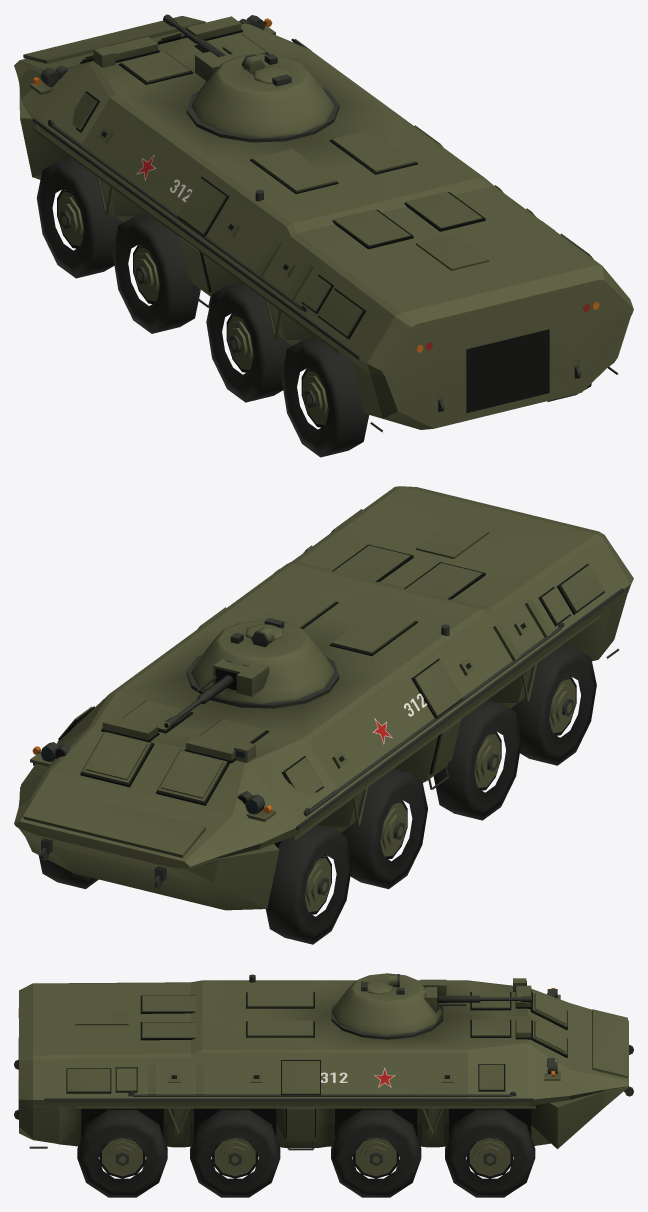
Rendered from btr70_lod1.glb.
The picture shows the model from 3 angles, top to bottom: view 1: azimuth 30°, elevation 25°; view 2: azimuth 150°, elevation 25°; view 3: azimuth 270°, elevation 25°; orthographic projection. The views are drawn at different scales.
Parts seen in each view (by area): view 1: Hull_BTR70_Paint, LeftTrack_Motion_BTR70_Rubber, TurretYaw_BTR70_Paint, Hull_BTR70_Cavity, Hull_BTR70_DarkSteel, LeftTrack_Motion_BTR70_Paint, LeftTrack_Motion_BTR70_DarkSteel; view 2: Hull_BTR70_Paint, LeftTrack_Motion_BTR70_Rubber, TurretYaw_BTR70_Paint, Hull_BTR70_DarkSteel, LeftTrack_Motion_BTR70_Paint, Hull_BTR70_Cavity, GunPitch_BTR70_Paint, RightTrack_Motion_BTR70_Rubber, BarrelRecoil_BTR70_DarkSteel, LeftTrack_Motion_BTR70_DarkSteel; view 3: Hull_BTR70_Paint, RightTrack_Motion_BTR70_Rubber, Hull_BTR70_Cavity, TurretYaw_BTR70_Paint, RightTrack_Motion_BTR70_Paint, Hull_BTR70_DarkSteel, RightTrack_Motion_BTR70_Cavity, RightTrack_Motion_BTR70_DarkSteel, BarrelRecoil_BTR70_DarkSteel.
Part boxes in pixels (box(x1,y1,x2,y2)): Hull_BTR70_Paint: box(14, 16, 633, 429); LeftTrack_Motion_BTR70_Rubber: box(36, 158, 369, 457); TurretYaw_BTR70_Paint: box(191, 50, 334, 137); Hull_BTR70_Cavity: box(76, 29, 549, 413); Hull_BTR70_DarkSteel: box(33, 15, 617, 432); LeftTrack_Motion_BTR70_Paint: box(57, 191, 328, 424); LeftTrack_Motion_BTR70_DarkSteel: box(60, 189, 326, 425); Hull_BTR70_Paint: box(14, 486, 633, 910); LeftTrack_Motion_BTR70_Rubber: box(265, 645, 596, 944); TurretYaw_BTR70_Paint: box(191, 620, 334, 703); Hull_BTR70_DarkSteel: box(33, 588, 623, 888); LeftTrack_Motion_BTR70_Paint: box(305, 679, 575, 911); Hull_BTR70_Cavity: box(55, 544, 604, 847); GunPitch_BTR70_Paint: box(236, 663, 269, 696); RightTrack_Motion_BTR70_Rubber: box(38, 855, 98, 888); BarrelRecoil_BTR70_DarkSteel: box(164, 675, 233, 727); LeftTrack_Motion_BTR70_DarkSteel: box(304, 677, 573, 912); Hull_BTR70_Paint: box(19, 978, 628, 1148); RightTrack_Motion_BTR70_Rubber: box(77, 1109, 535, 1197); Hull_BTR70_Cavity: box(18, 990, 567, 1137); TurretYaw_BTR70_Paint: box(332, 973, 442, 1035); RightTrack_Motion_BTR70_Paint: box(102, 1137, 510, 1176); Hull_BTR70_DarkSteel: box(14, 974, 633, 1150); RightTrack_Motion_BTR70_Cavity: box(99, 1137, 513, 1178); RightTrack_Motion_BTR70_DarkSteel: box(101, 1137, 510, 1166); BarrelRecoil_BTR70_DarkSteel: box(438, 995, 531, 1002).
Size of the model in its own units: 2.8 by 2.33 by 7.54.
8 materials, 1 textured.
